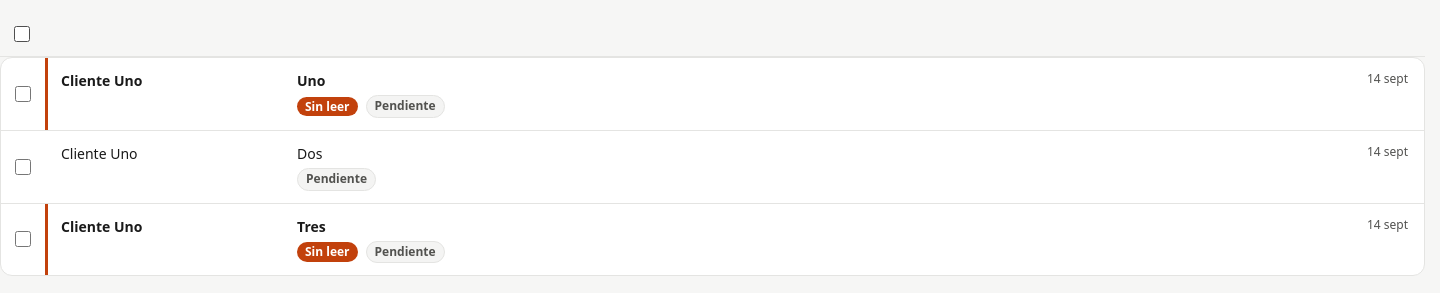
elegir hilos › «Quitar la selección» deja la lista como estaba
Click the 2nd checkbox at (23, 94), box 15,86 -> 31,102
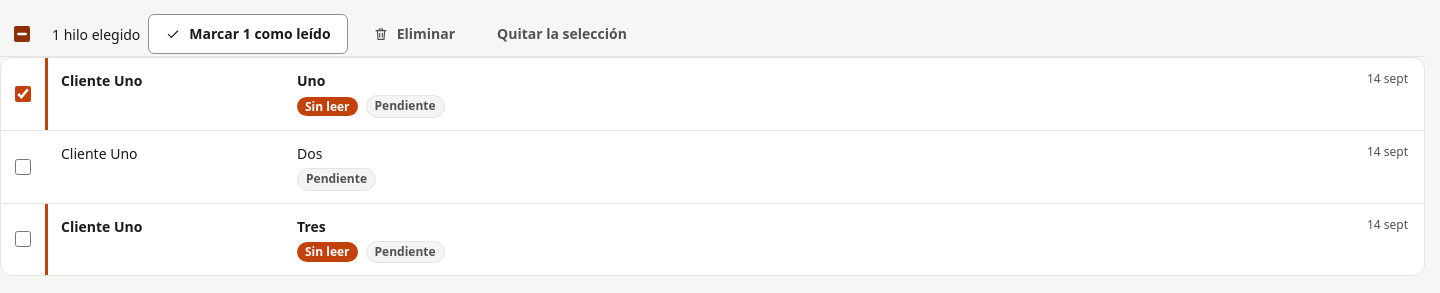
Click the button "Quitar la selección" at (562, 34), box 480,14 -> 644,54
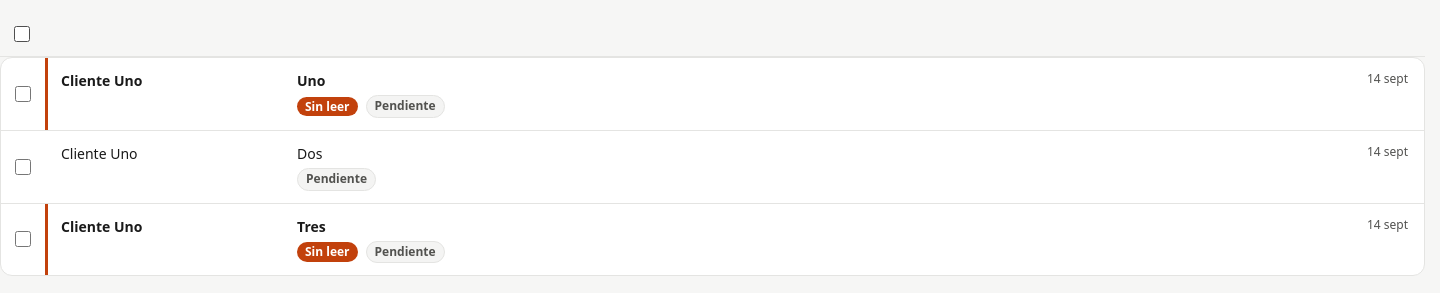
Expected: the text "1 hilo elegido" is gone
